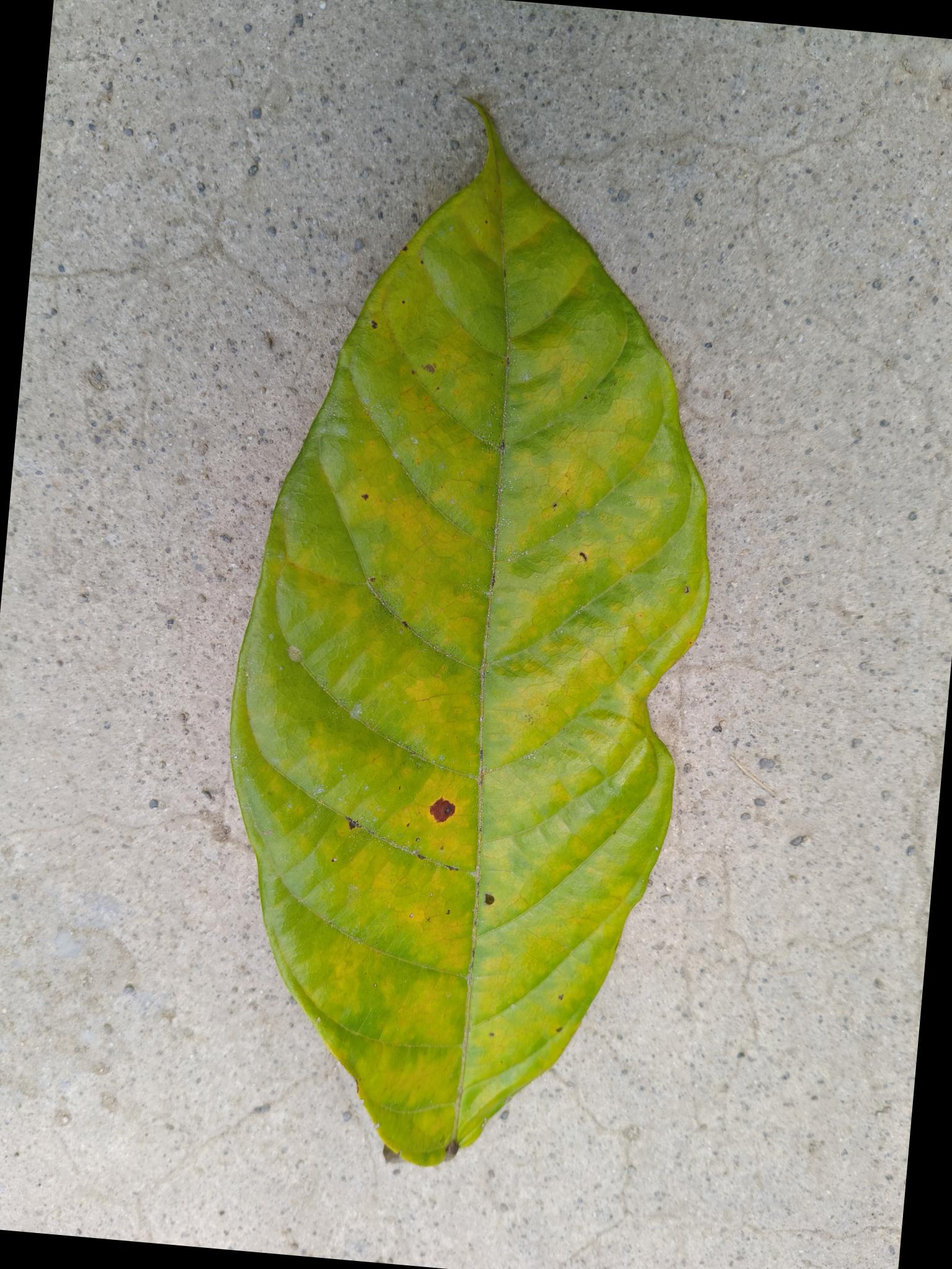Fosforo: (212, 94, 722, 1179)
